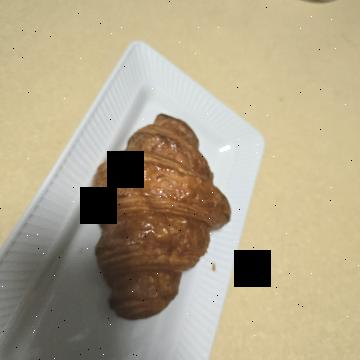croissant: (117, 121, 345, 285)
